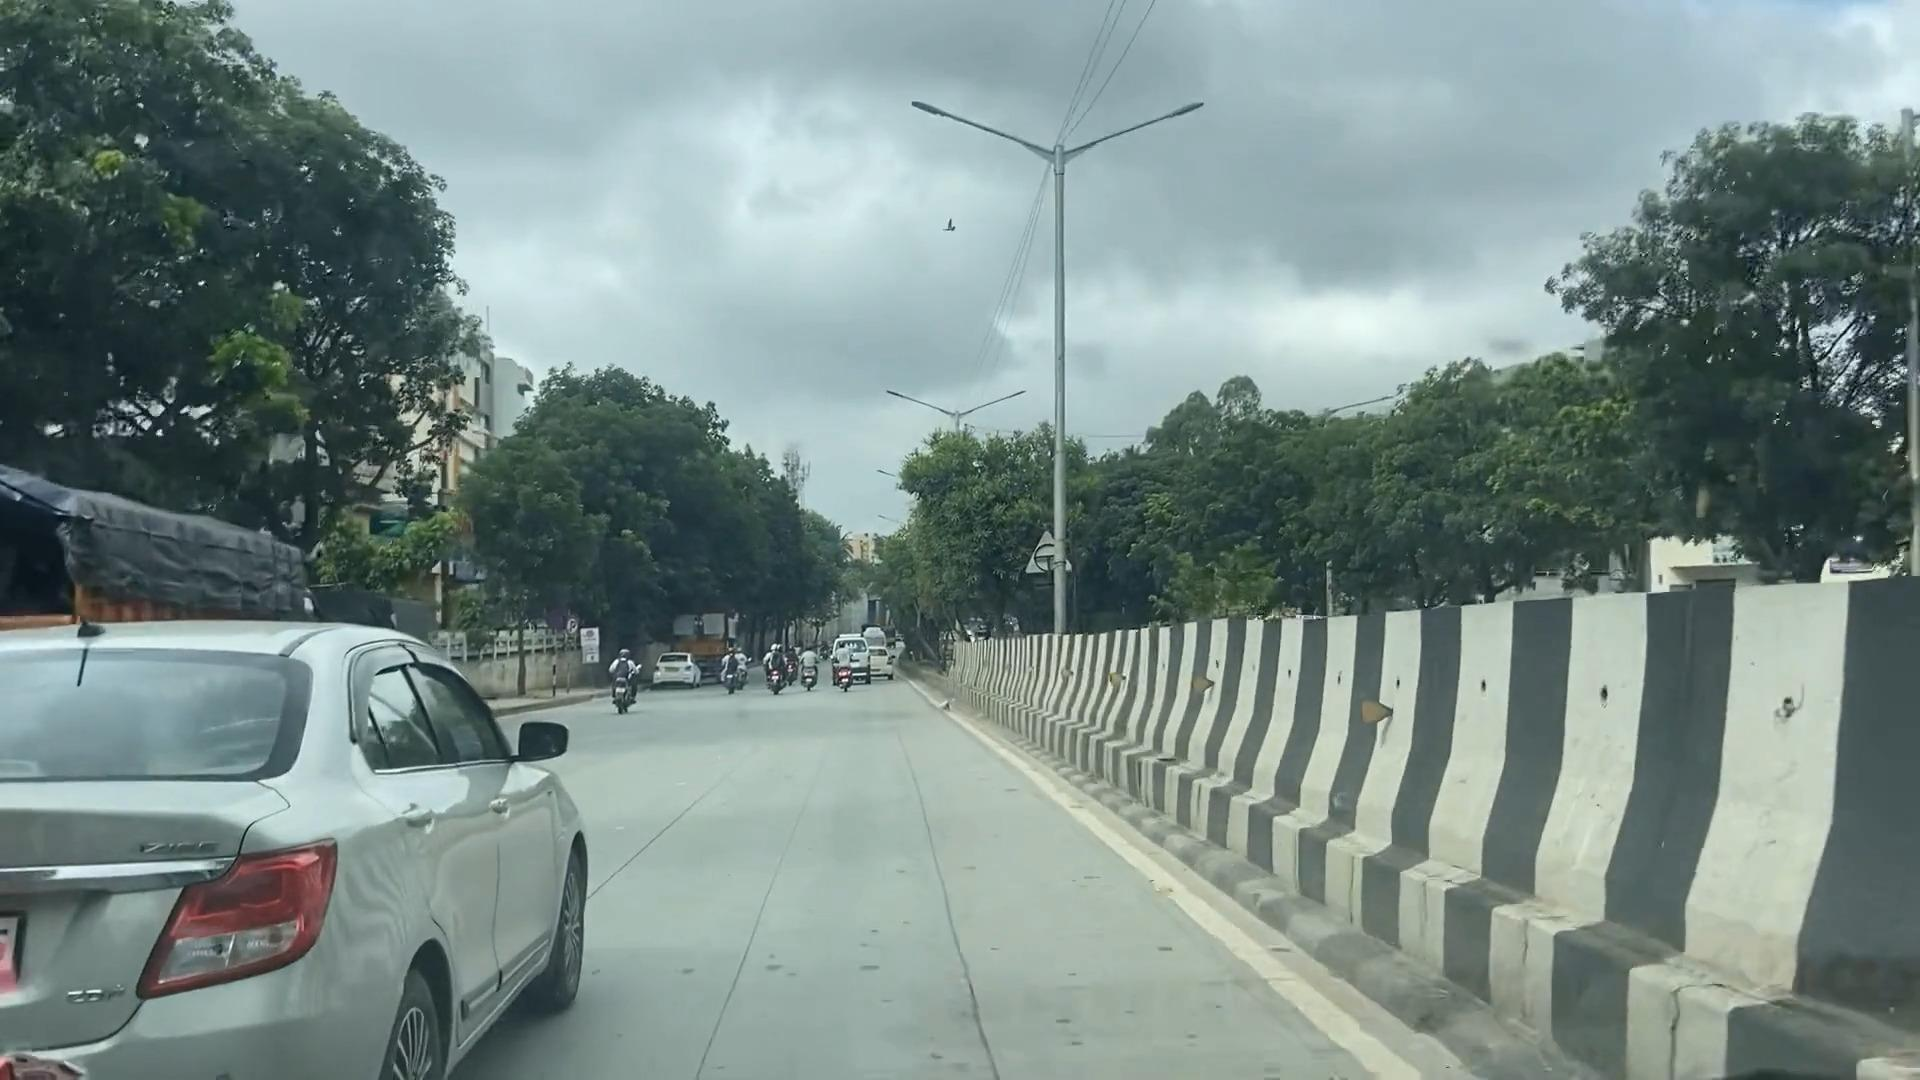LMV: (0, 618, 597, 1080)
